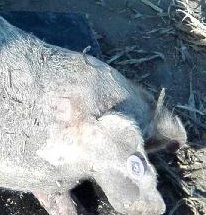text: (114, 145, 159, 192)
